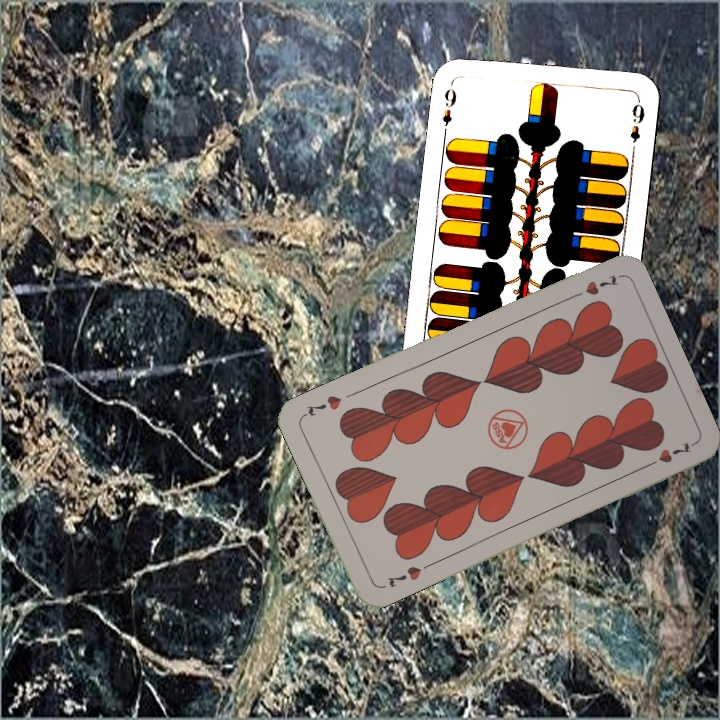E9: (438, 77, 459, 136)
H7: (566, 270, 622, 302), (382, 562, 424, 590)
